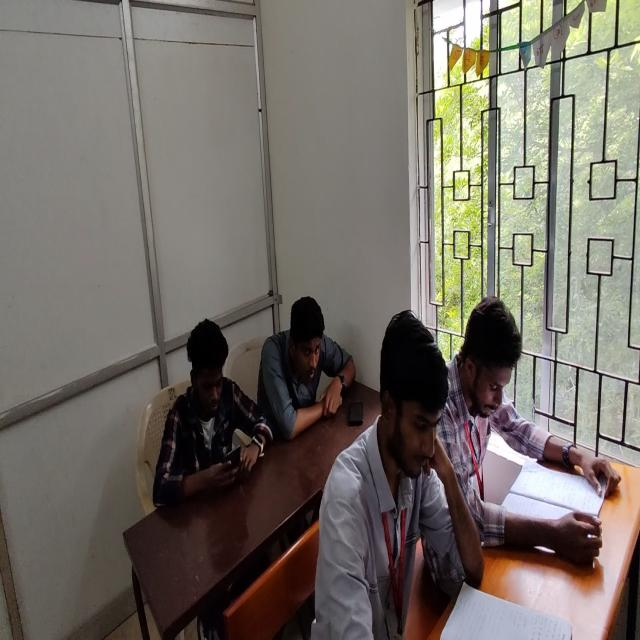listening: (257, 292, 354, 446)
reading: (324, 311, 494, 636), (433, 294, 620, 580)
using_mobile: (153, 318, 274, 509)
